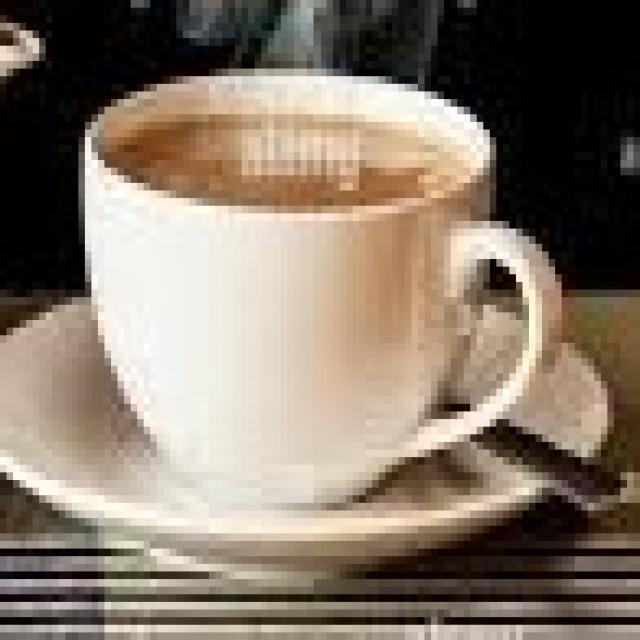taza: (58, 46, 566, 508)
